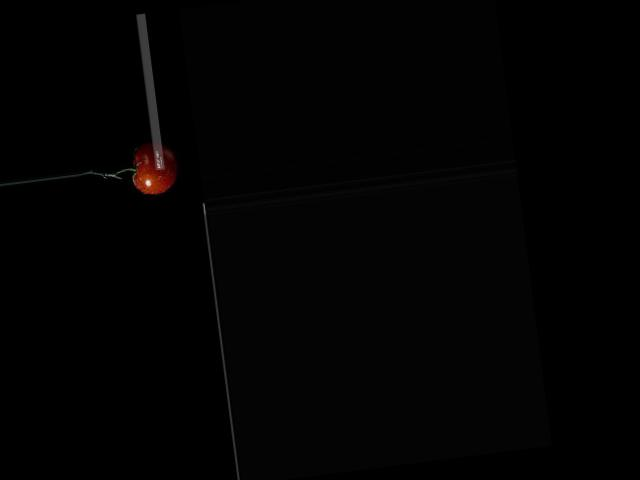tomato: (130, 141, 178, 195)
